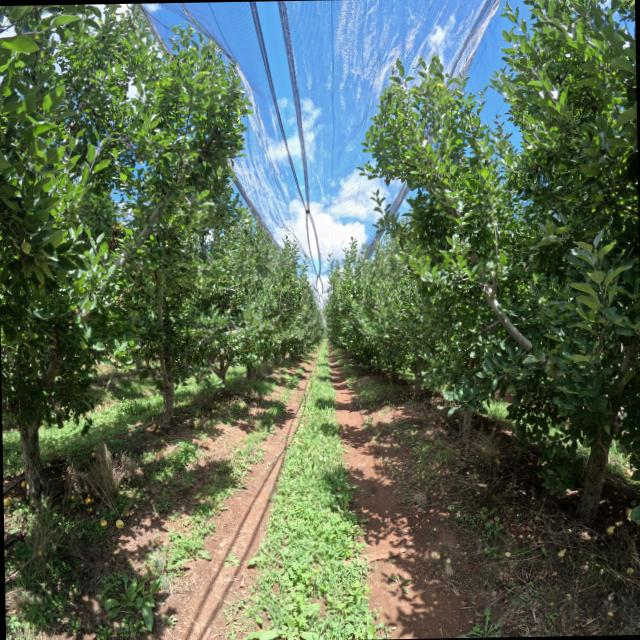-FireBlight-: (109, 221, 121, 249), (228, 302, 232, 310)
